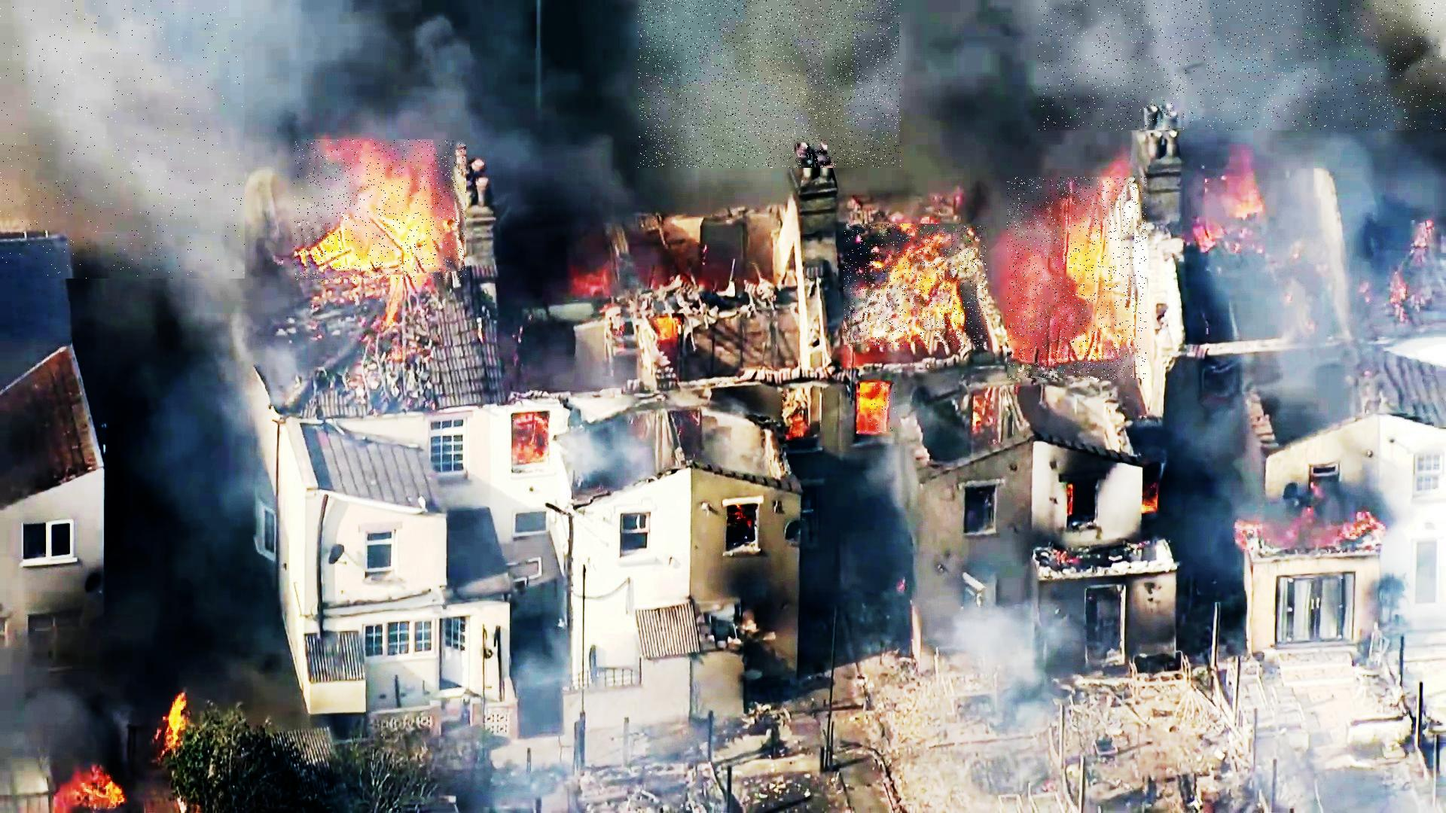fire: (1008, 177, 1147, 380), (294, 140, 466, 282), (844, 224, 987, 347), (861, 384, 897, 432)
smoke: (0, 0, 245, 279), (1038, 0, 1446, 130), (639, 0, 901, 168)
